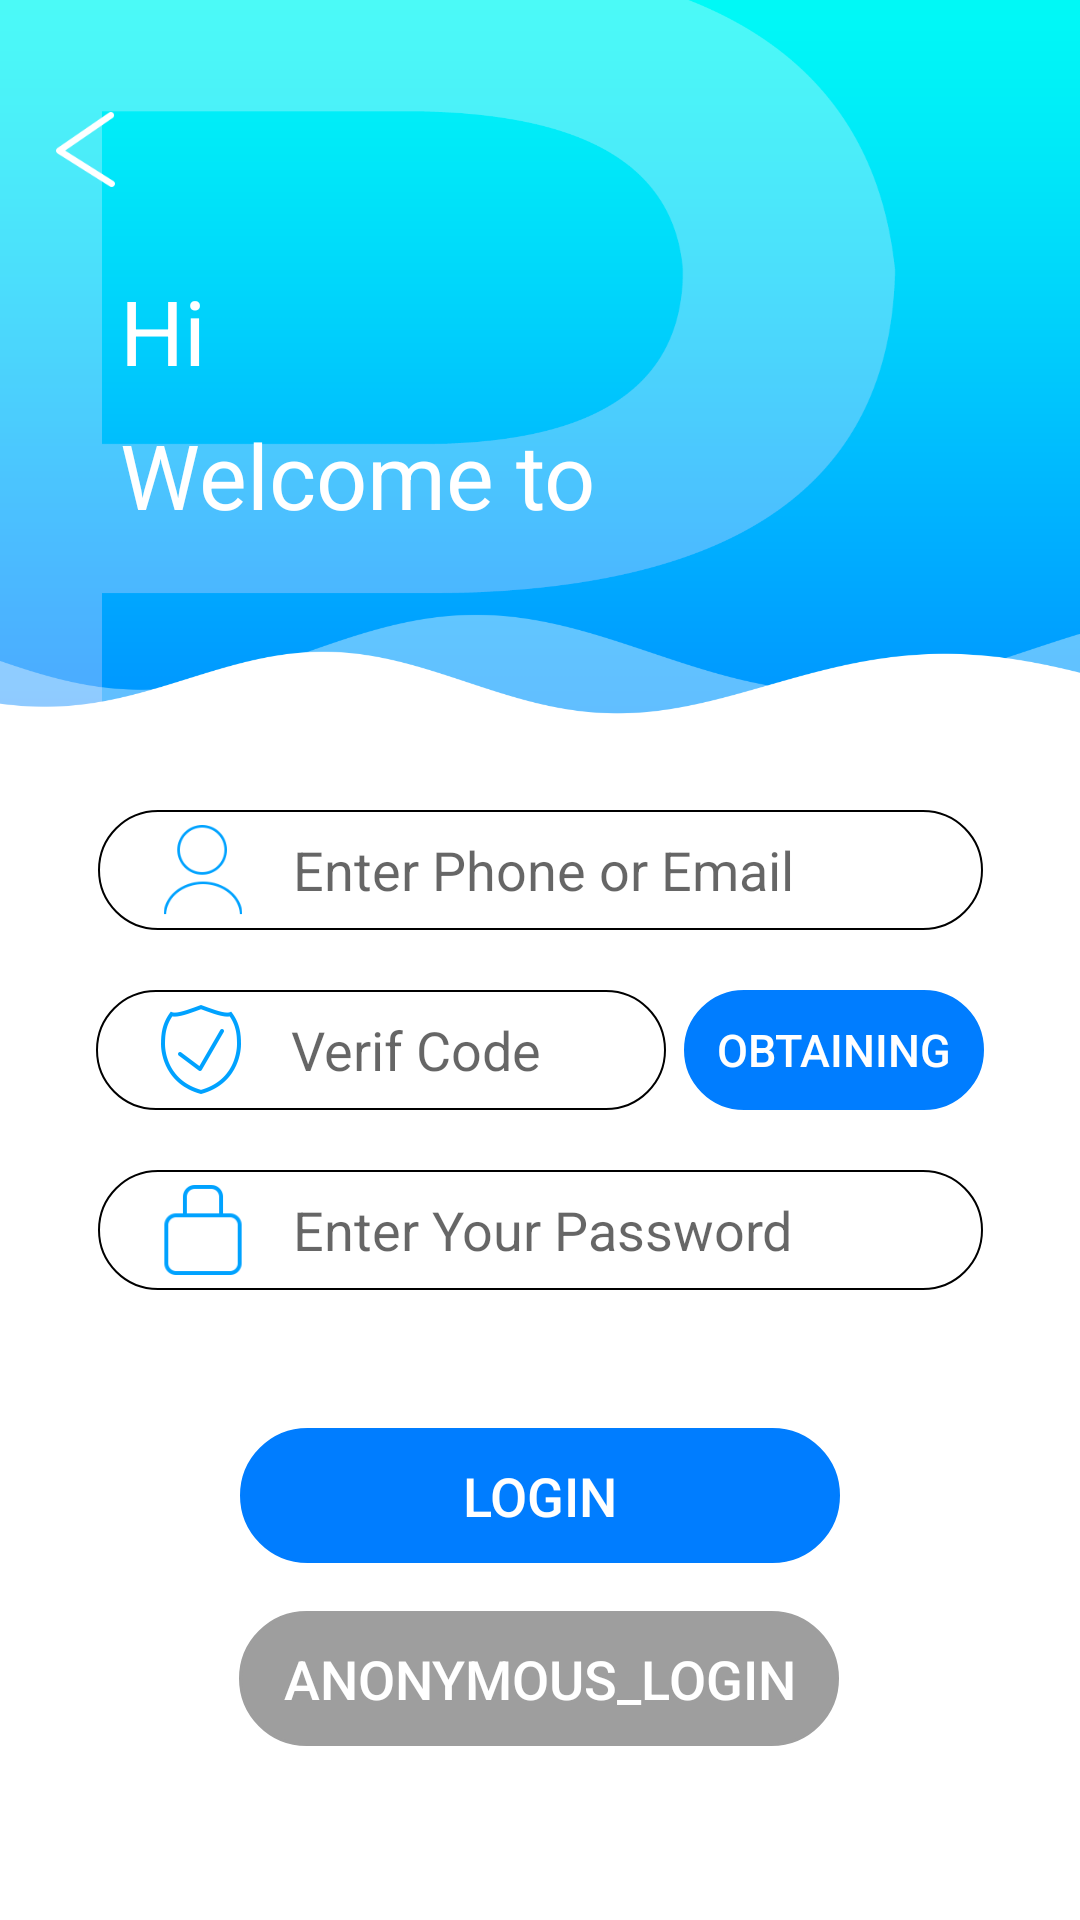

Icons on this 1080px x 1920px Android screen, each with the point to tap as [x,y]:
back: [89,149]
secret code: [203,1230]
user: [203,869]
verify code: [201,1049]
